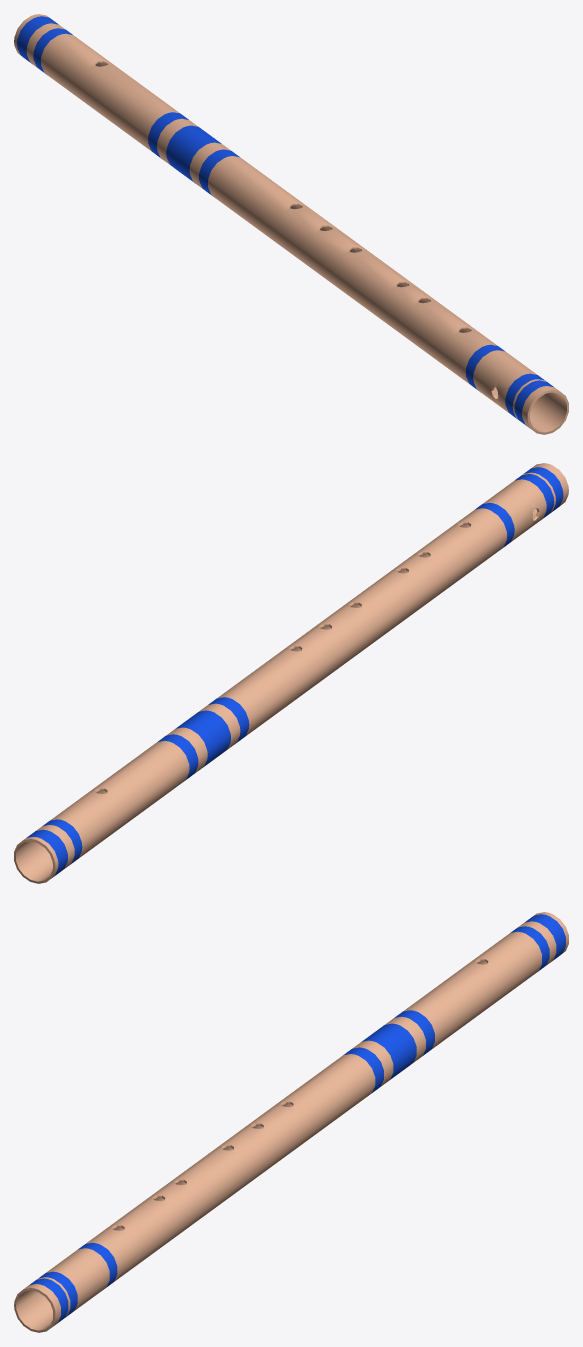
File: FluteLowPoly.fbx
The picture shows the model from 3 angles, top to bottom: view 1: azimuth 30°, elevation 25°; view 2: azimuth 150°, elevation 25°; view 3: azimuth 330°, elevation 25°; orthographic projection.
Visible parts, largest first — view 1: FluteLowPoly; view 2: FluteLowPoly; view 3: FluteLowPoly.
Part boxes in pixels (left/top/right/bottom): FluteLowPoly: left=14, top=14, right=568, bottom=434; FluteLowPoly: left=14, top=463, right=568, bottom=883; FluteLowPoly: left=14, top=912, right=568, bottom=1332.
Size of the model in its own units: 198 by 198 by 4250.
